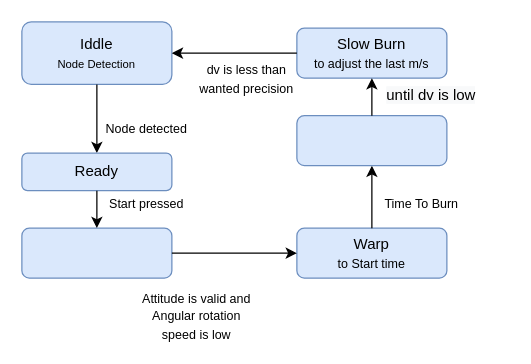
Image size: 531x364. Some labels were removed from this diagram. The centre of each missing label's shape, as x and y in pixels:
"Full Burn" belongs at [371,140].
"Turn to Node direction" belongs at [96,252].
